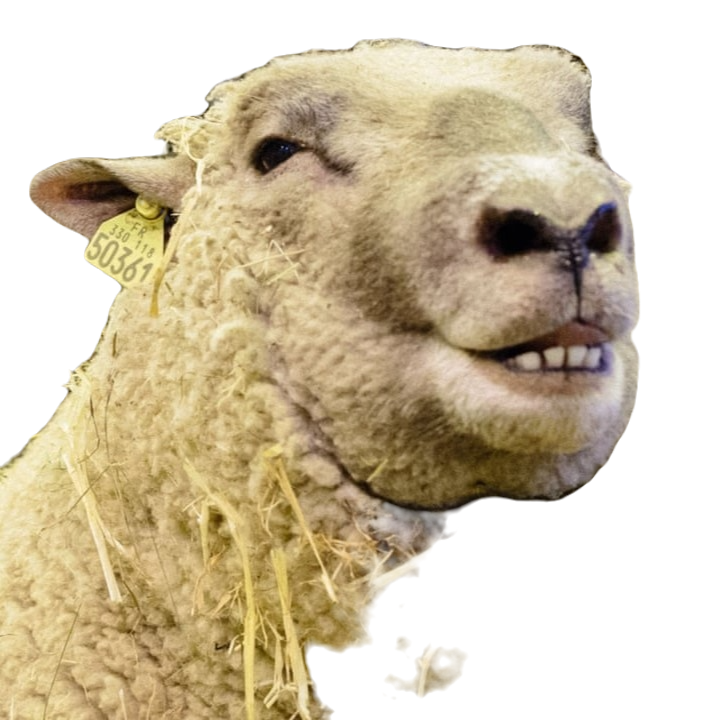Sheep: (0, 36, 649, 719)
